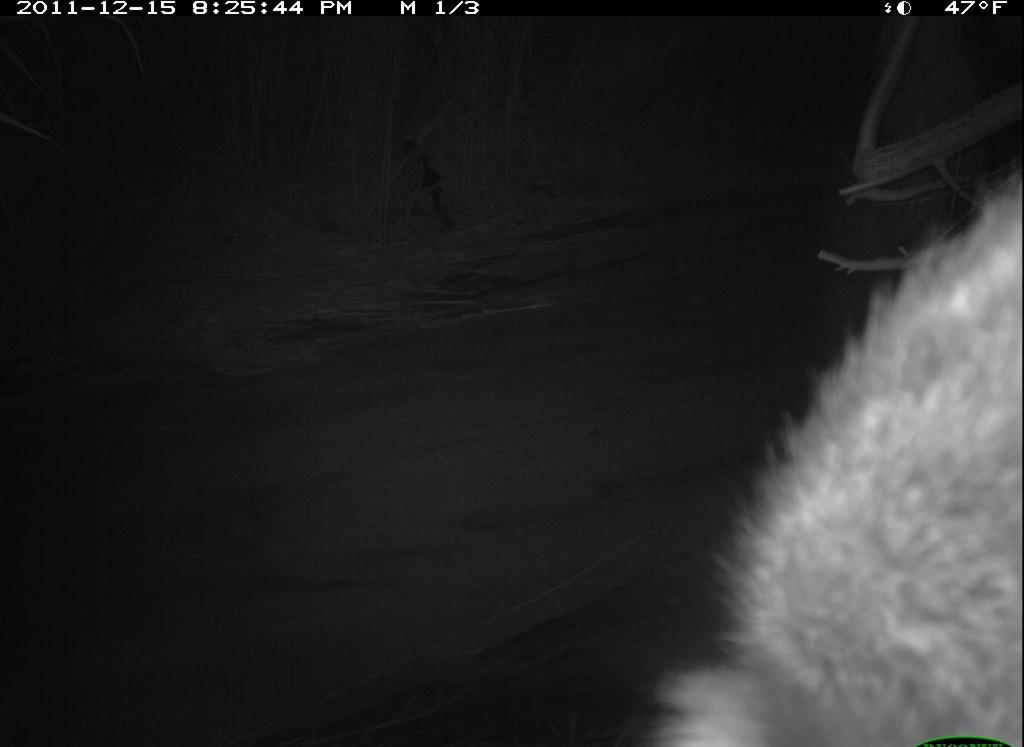raccoon: (621, 145, 1023, 735)
